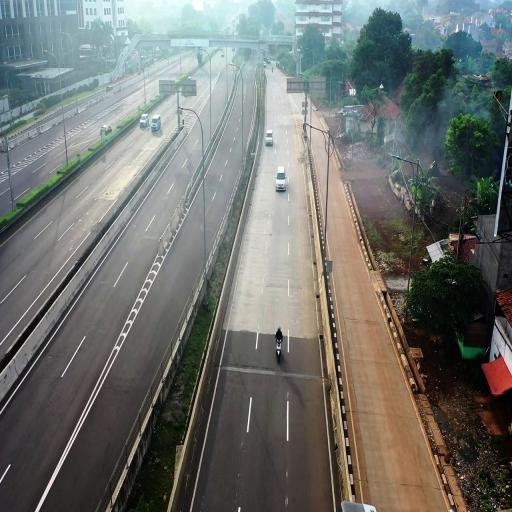vehicle: (276, 168, 288, 192), (150, 115, 162, 135), (140, 114, 150, 132)
